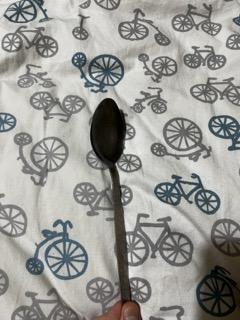spoon: (90, 95, 136, 309)
